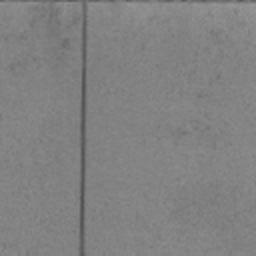Scratches: (79, 0, 88, 256)
